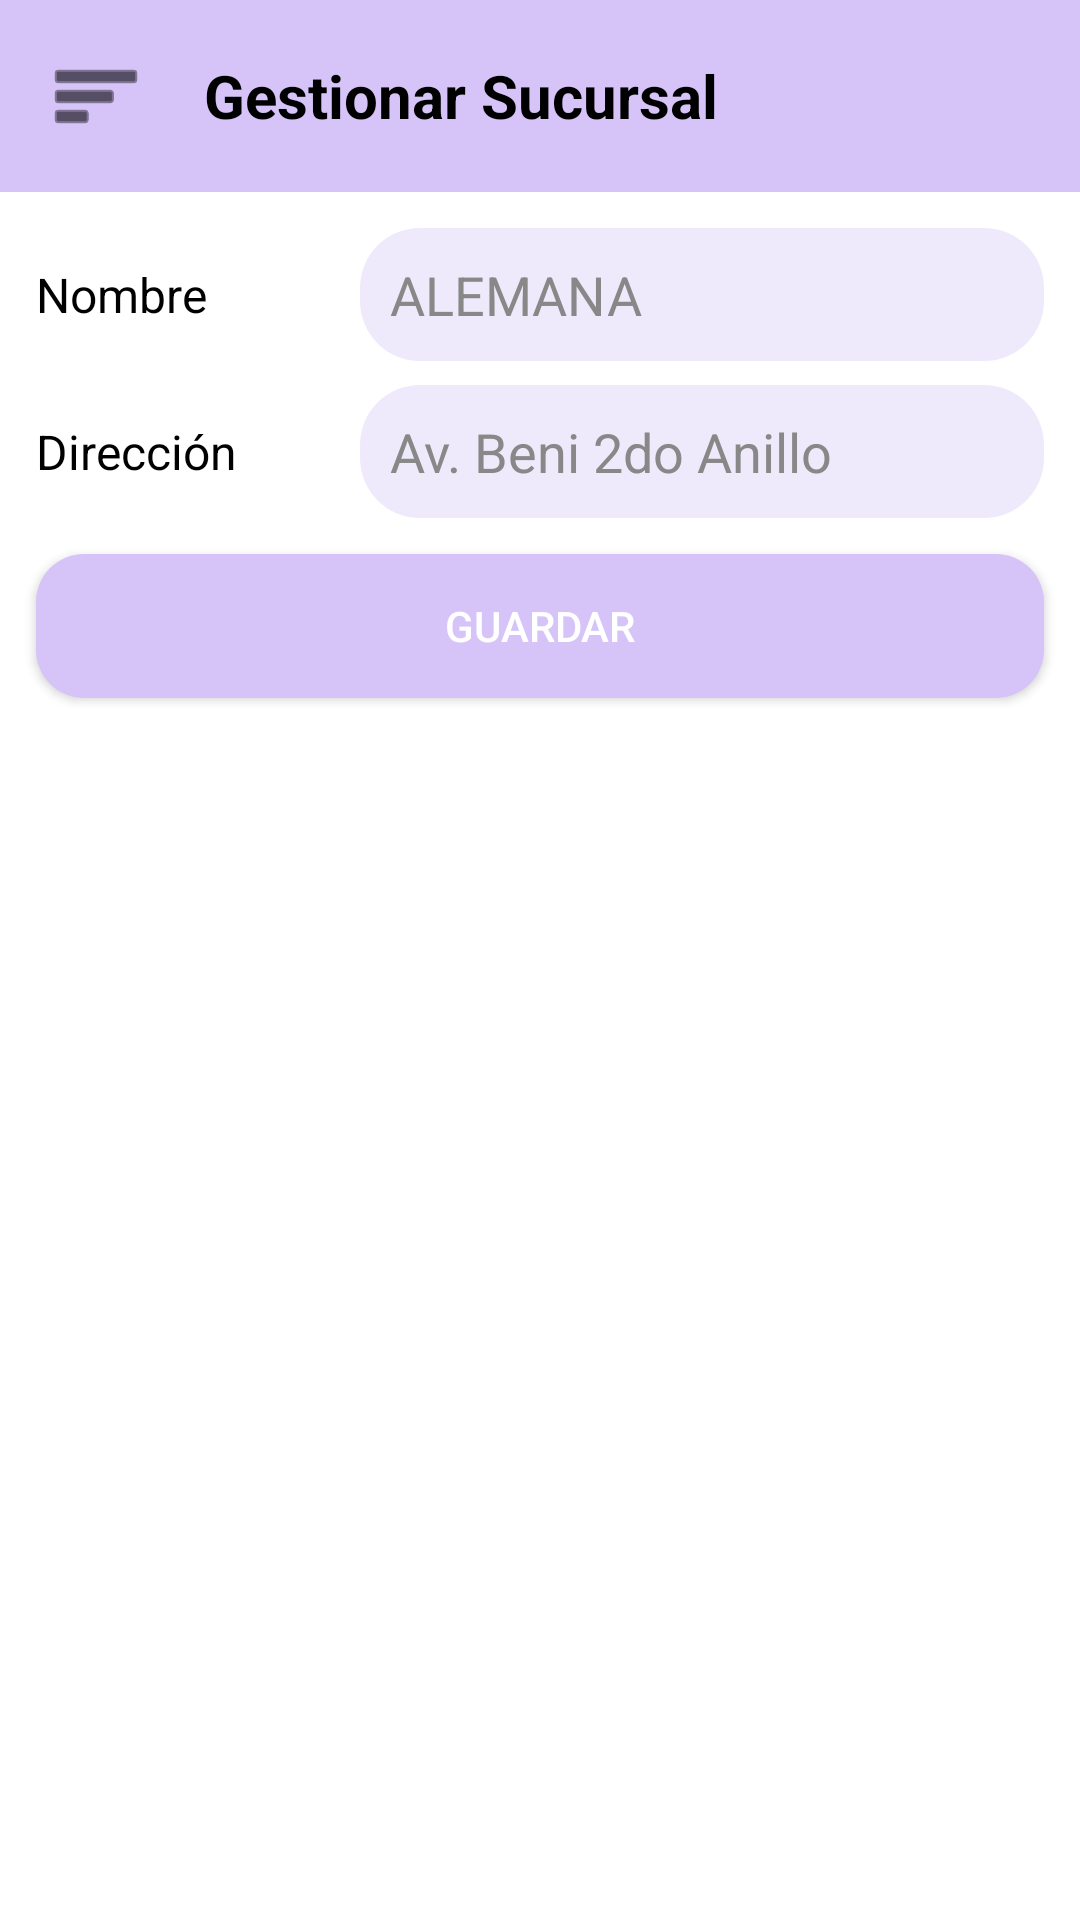

Icon click points for this 1080 x 1920 phone screenshot, format (x=x, y=y):
Abrir menú: (x=96, y=96)
